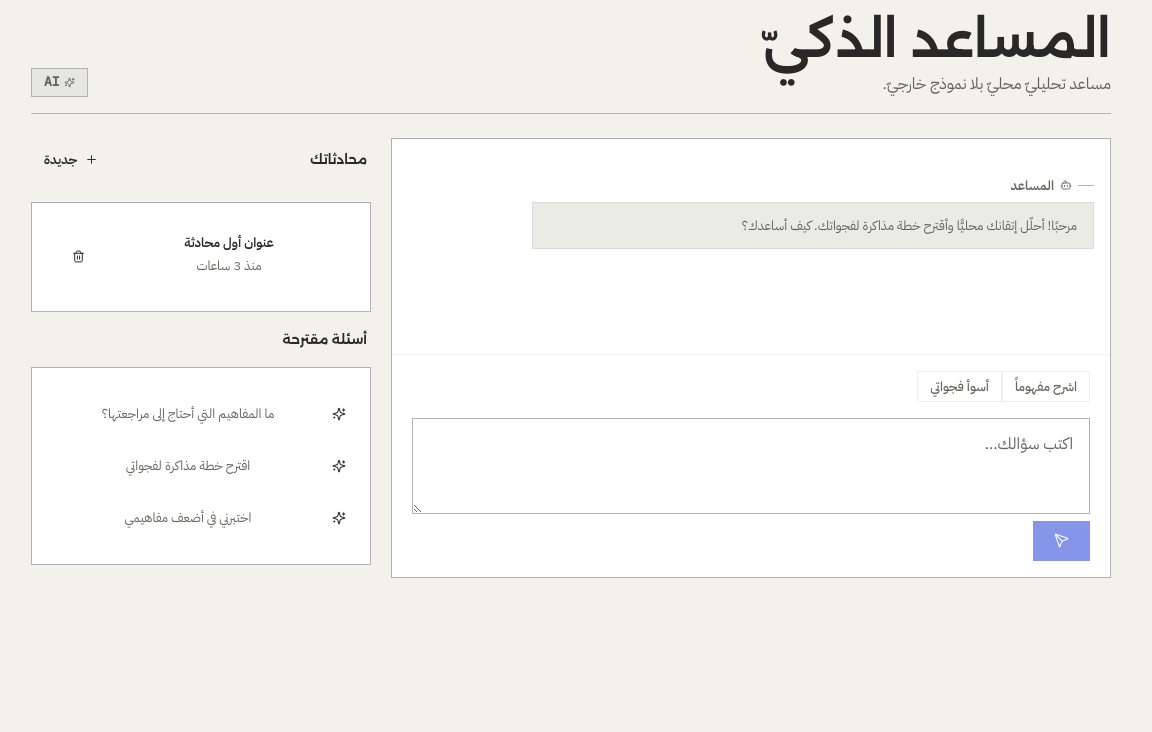
Test case: AiAssistantPage — conversation management (r164g) › a switch failure renders the honest error + «أعد فتح المحادثة» retry, and retry recovers
The image size is (1152, 732).
Later steps or results of the test are not shown.
Click the button with aria-label "فتح محادثة: عنوان أول محادثة" at (229, 256), box [112,234,346,278]
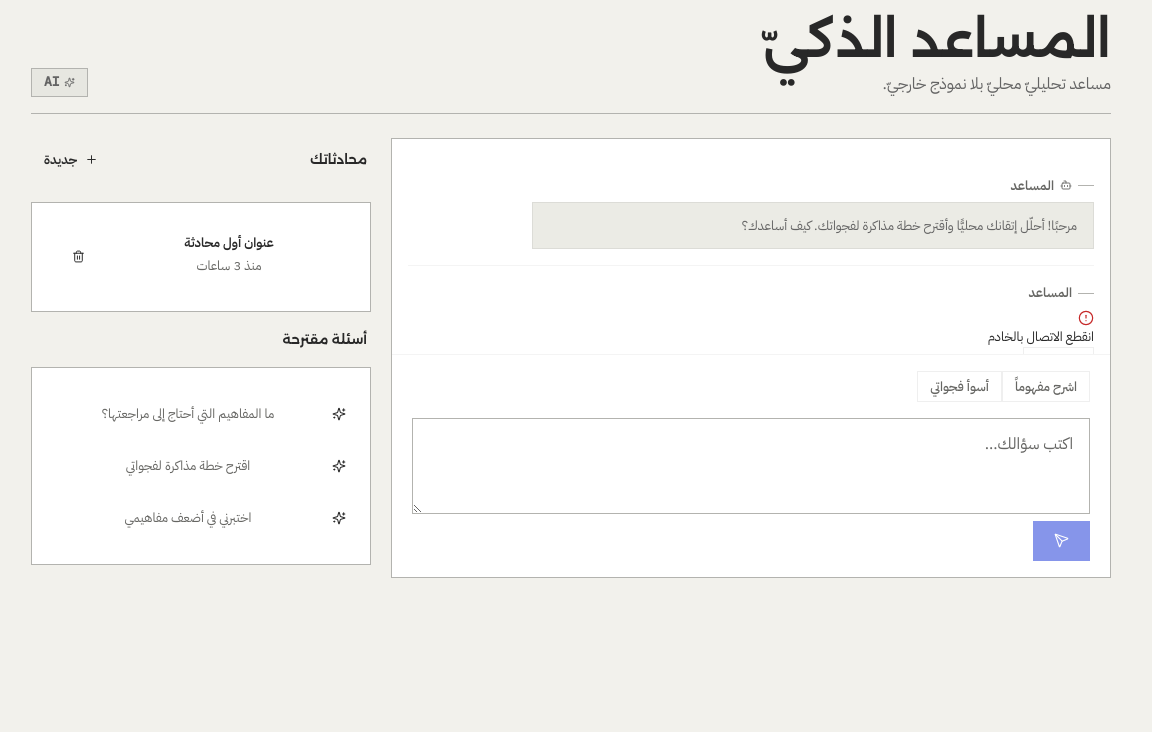
expect the text "أحلّل إتقانك محليًّا" is shown: met, box [742,216,1077,235]
expect the text "انقطع الاتصال بالخادم" is shown: met, box [988,327,1094,346]
